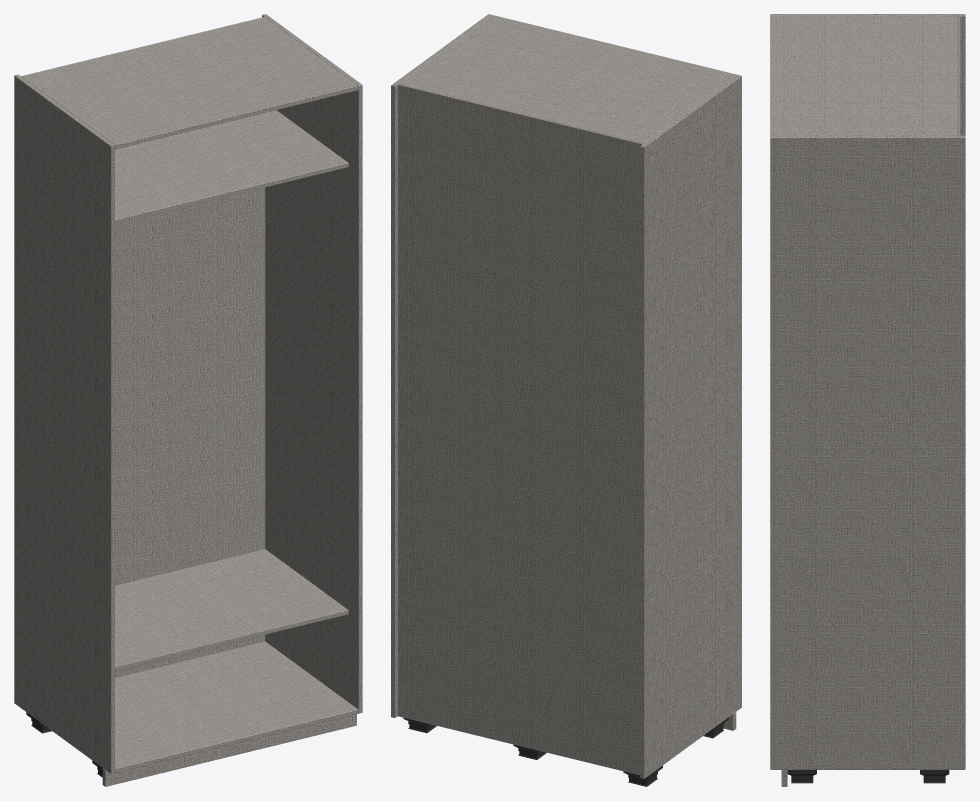
The model's file is cbib12153.gltf.
The picture shows the model from 3 angles, left to right: view 1: azimuth 30°, elevation 25°; view 2: azimuth 150°, elevation 25°; view 3: azimuth 270°, elevation 25°; orthographic projection.
Parts seen in each view (by area): view 1: CBIB12153; view 2: CBIB12153; view 3: CBIB12153.
Boxes of the visible parts, x1,y1,x2,y2 form: CBIB12153: [14, 14, 362, 786]; CBIB12153: [391, 14, 741, 786]; CBIB12153: [770, 14, 965, 786].
Bounding box in the file's own units: 0.9 × 2.2 × 0.6.
Materials: 3 (2 with a texture image).
